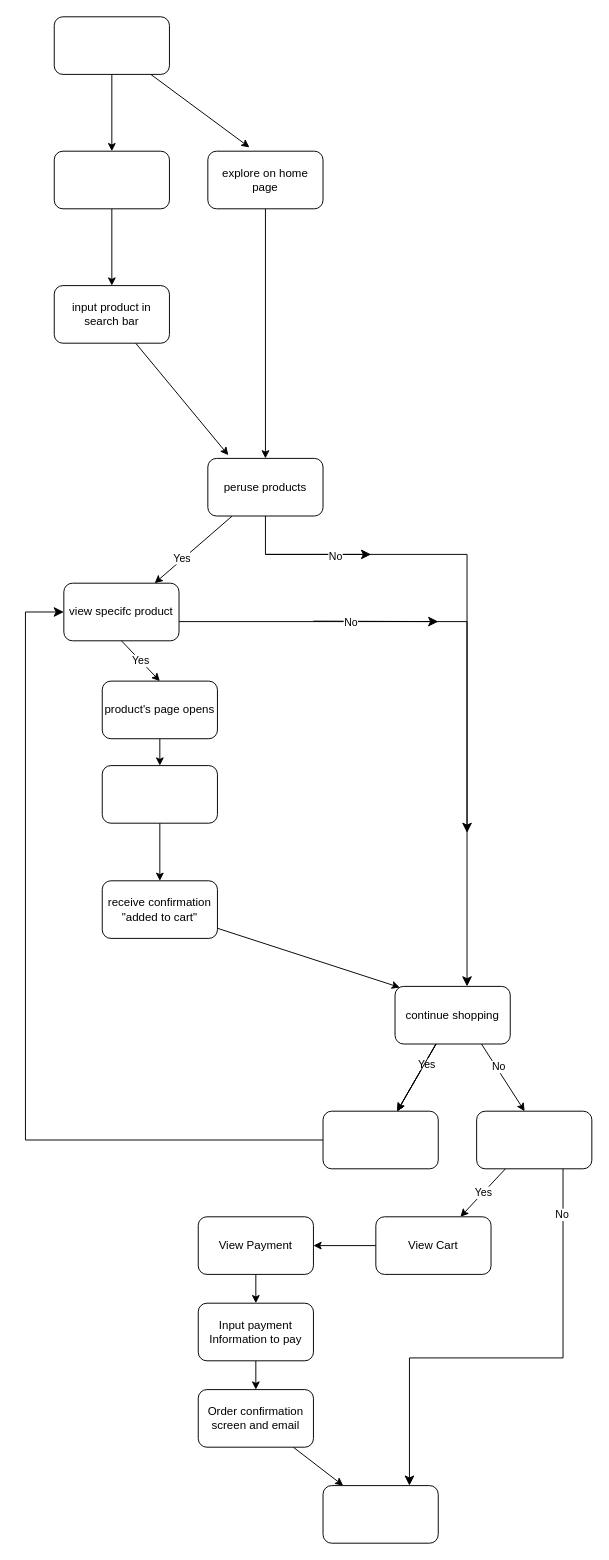
Image size: 609x1560. Some labels were removed from this diagram. The shapes that lost their labels are listed below. From the top down, each one's centre as x and y in pixels, then its label:
At (111,45): "Enter website".
At (111,179): "search for product".
At (159,794): "add product to cart".
At (380,1139): "search new product".
At (534,1139): "checkout".
At (380,1514): "Leave website".
